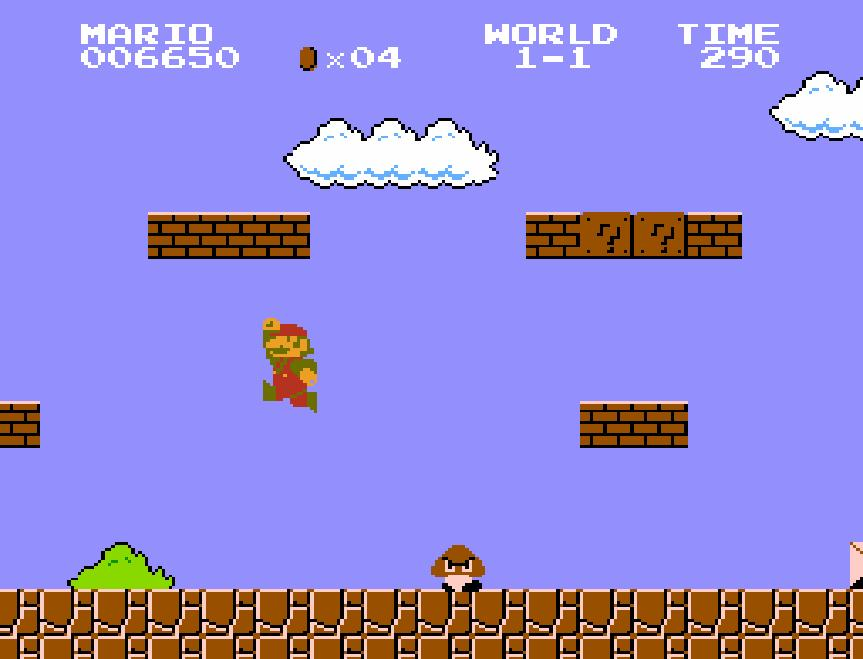big_mario: (260, 316, 318, 414)
